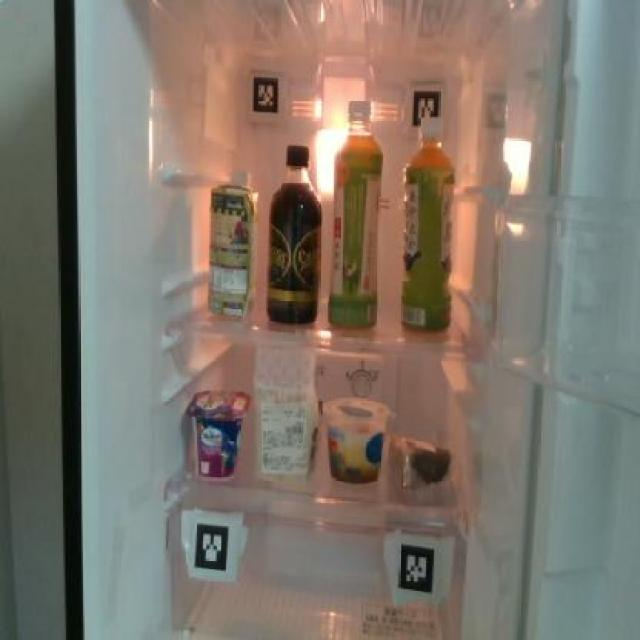coffee: (266, 142, 322, 327)
pudding: (322, 393, 388, 482)
rice_ball: (388, 429, 454, 498)
sandwich: (253, 346, 322, 480)
smoothie: (202, 166, 256, 322)
tea_a: (399, 114, 456, 334)
tea_i: (326, 95, 385, 327)
yogurt: (182, 385, 250, 480)
